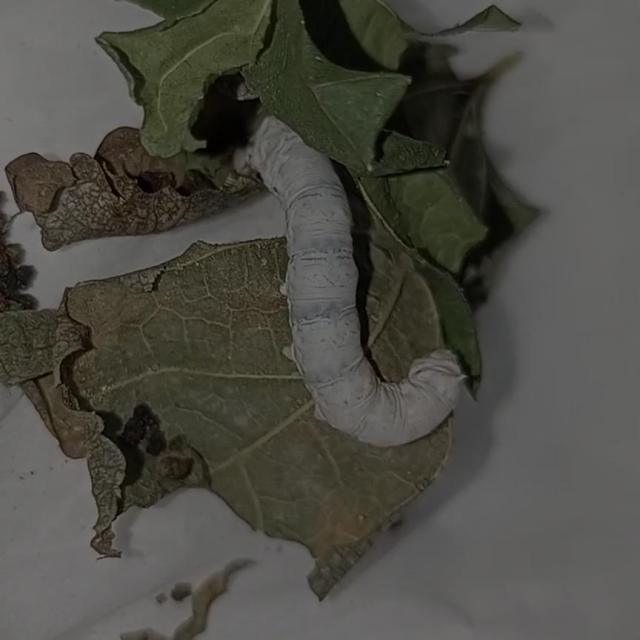Healthy: (237, 109, 474, 448)
